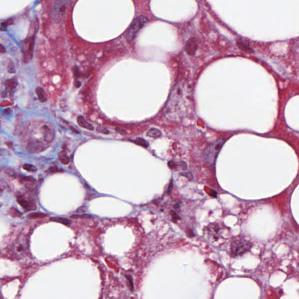inflammation: (54, 111, 113, 138), (224, 231, 258, 259)
